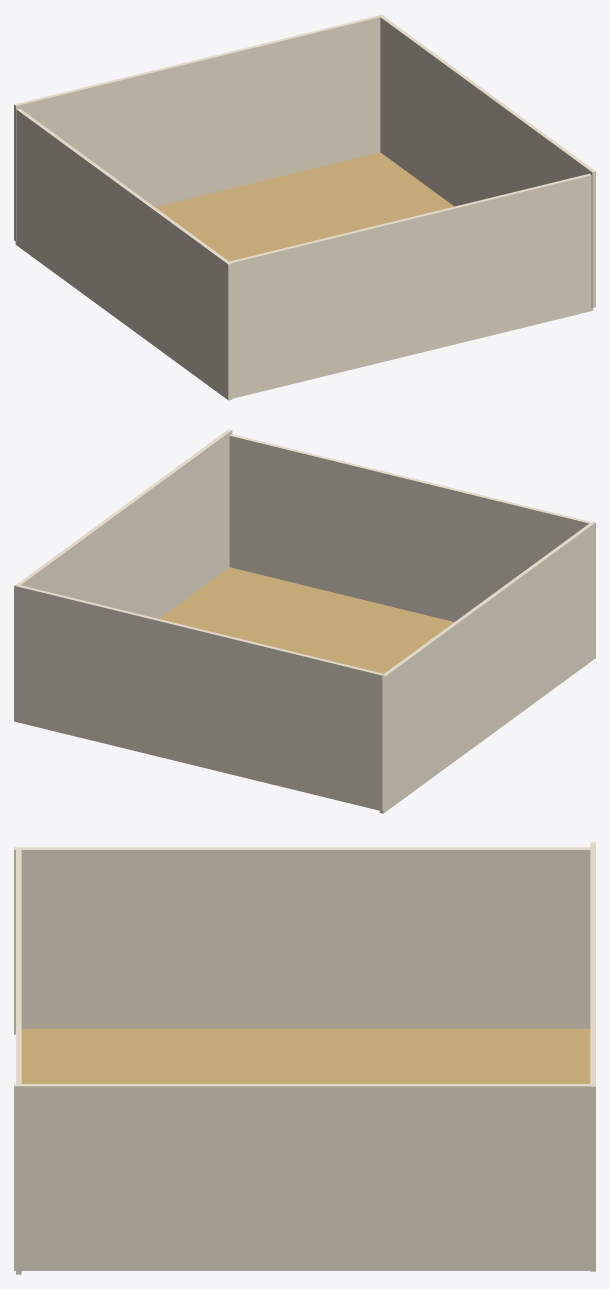
The model's file is conbini.fbx.
The picture shows the model from 3 angles, top to bottom: view 1: azimuth 30°, elevation 25°; view 2: azimuth 150°, elevation 25°; view 3: azimuth 270°, elevation 25°; orthographic projection. The views are drawn at different scales.
Visible parts, largest first — view 1: kabe5, kabe1, kabe3, kabe4, pCube1; view 2: kabe1, kabe5, kabe3, kabe4, pCube1; view 3: kabe4, kabe3, pCube1, kabe1, kabe5.
Boxes of the visible parts, x1,y1,x2,y2 form: kabe5: (229,173,593,398); kabe1: (14,14,384,241); kabe3: (15,108,232,400); kabe4: (380,16,595,307); pCube1: (155,152,453,261); kabe1: (14,584,384,811); kabe5: (229,434,590,621); kabe3: (379,521,595,813); kabe4: (17,429,232,618); pCube1: (159,567,454,673); kabe4: (14,1084,590,1270); kabe3: (14,847,590,1034); pCube1: (21,1028,590,1083); kabe1: (590,842,595,1271); kabe5: (16,850,21,1274).
Bounding box in the file's own units: 0.1956 × 0.1969 × 0.0707.
Materials: 2 (2 with a texture image).
